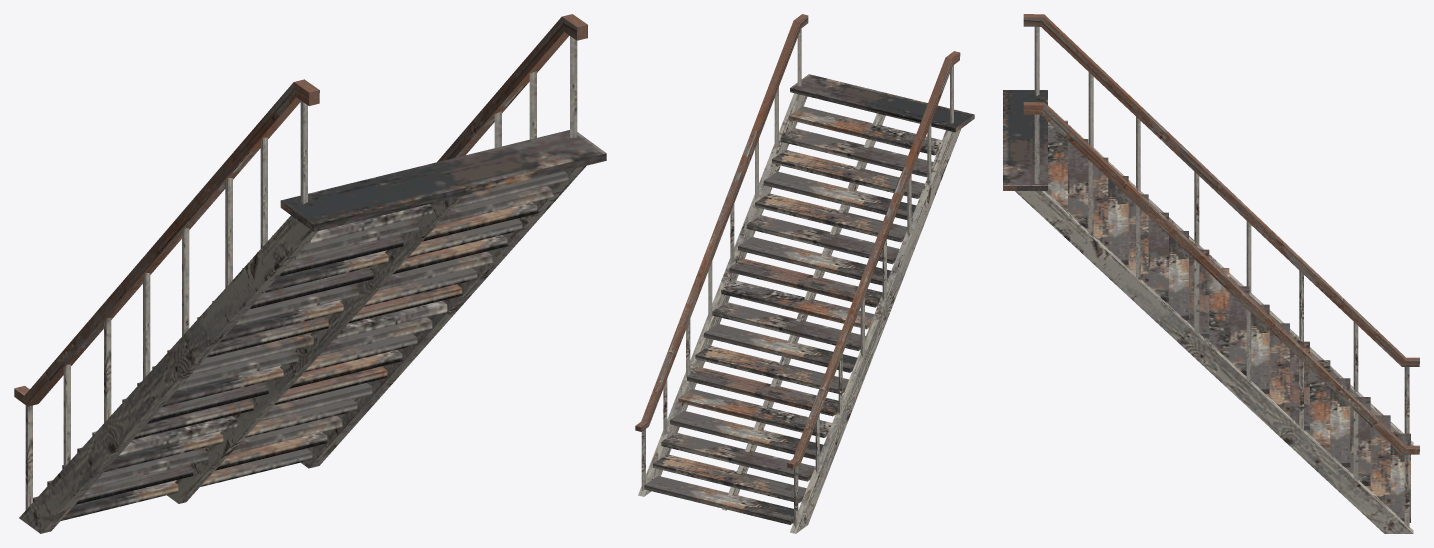
The model's file is Stairs_W2H3D3_v1_M2.gltf.
The picture shows the model from 3 angles, left to right: view 1: azimuth 30°, elevation 25°; view 2: azimuth 150°, elevation 25°; view 3: azimuth 270°, elevation 25°; orthographic projection. The views are drawn at different scales.
Visible parts, largest first — view 1: Stairs_W2H3D3_v1_M2(Clone); view 2: Stairs_W2H3D3_v1_M2(Clone); view 3: Stairs_W2H3D3_v1_M2(Clone).
Boxes of the visible parts, x1=… form: Stairs_W2H3D3_v1_M2(Clone): x1=14, y1=14, x2=606, y2=533; Stairs_W2H3D3_v1_M2(Clone): x1=635, y1=14, x2=974, y2=533; Stairs_W2H3D3_v1_M2(Clone): x1=1003, y1=14, x2=1419, y2=533.
Size of the model in its own units: 1.77 by 3.68 by 3.25.
Materials: 1 (1 with a texture image).
